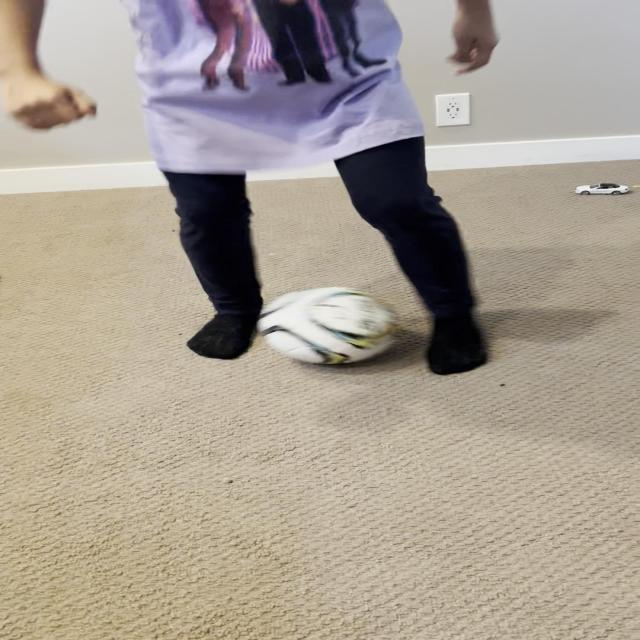Soccer Ball: (258, 287, 399, 365)
